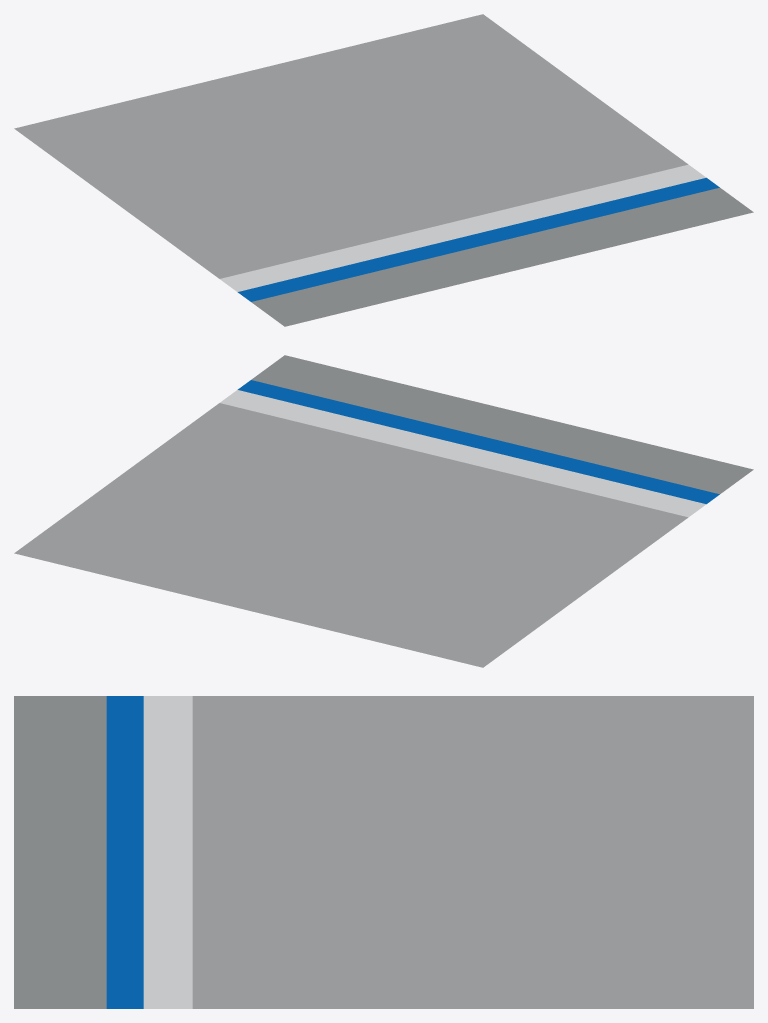
File: Ceiling_type_A_024.fbx
3 views of the same model, one above another, from view 1: azimuth 30°, elevation 25°; view 2: azimuth 150°, elevation 25°; view 3: azimuth 270°, elevation 25° (orthographic). The views are drawn at different scales.
Visible parts, largest first — view 1: Ceiling_type_A_024; view 2: Ceiling_type_A_024; view 3: Ceiling_type_A_024.
Boxes of the visible parts, <box> form: Ceiling_type_A_024: <box>14,14,753,326</box>; Ceiling_type_A_024: <box>14,355,753,667</box>; Ceiling_type_A_024: <box>14,696,753,1008</box>.
Bounding box in the file's own units: 400 × 400 × 6.18.
